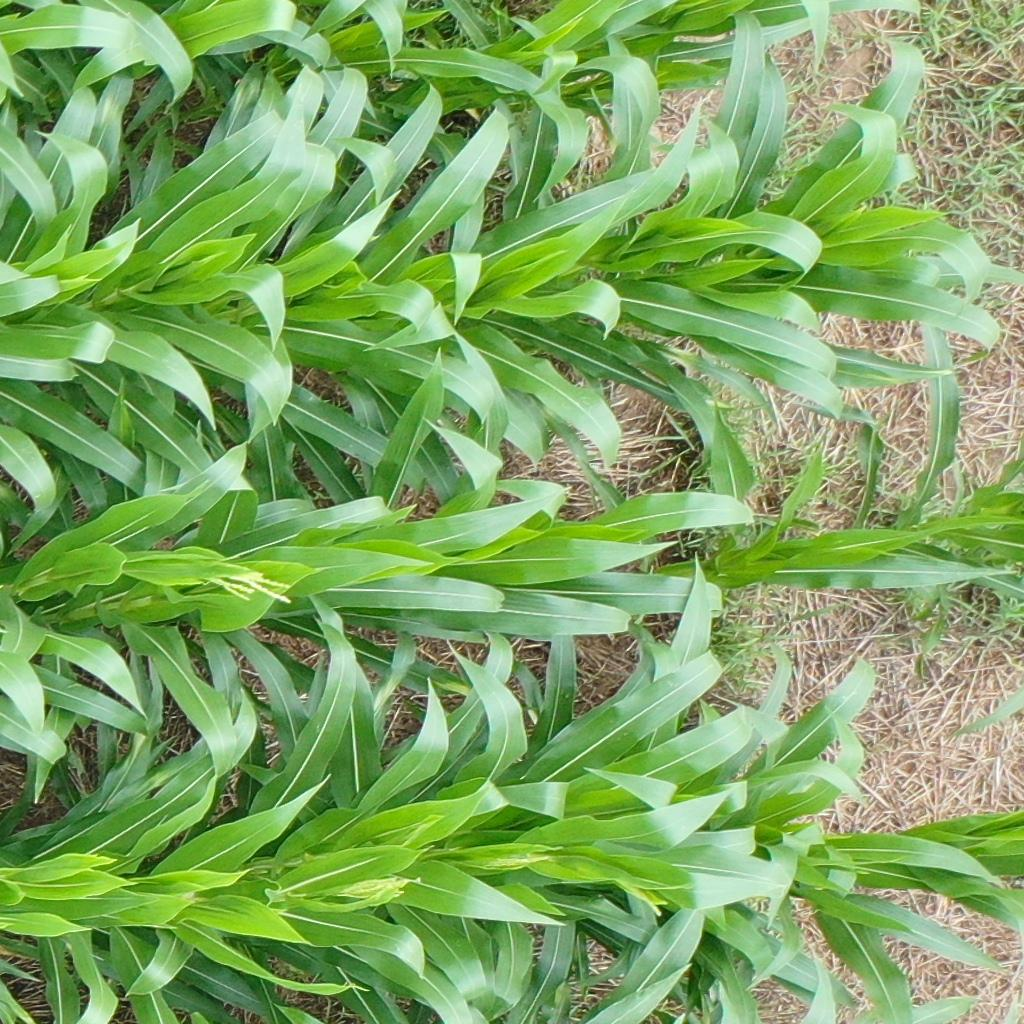Tassel: (200, 557, 296, 607), (333, 872, 429, 903), (496, 854, 551, 872)
